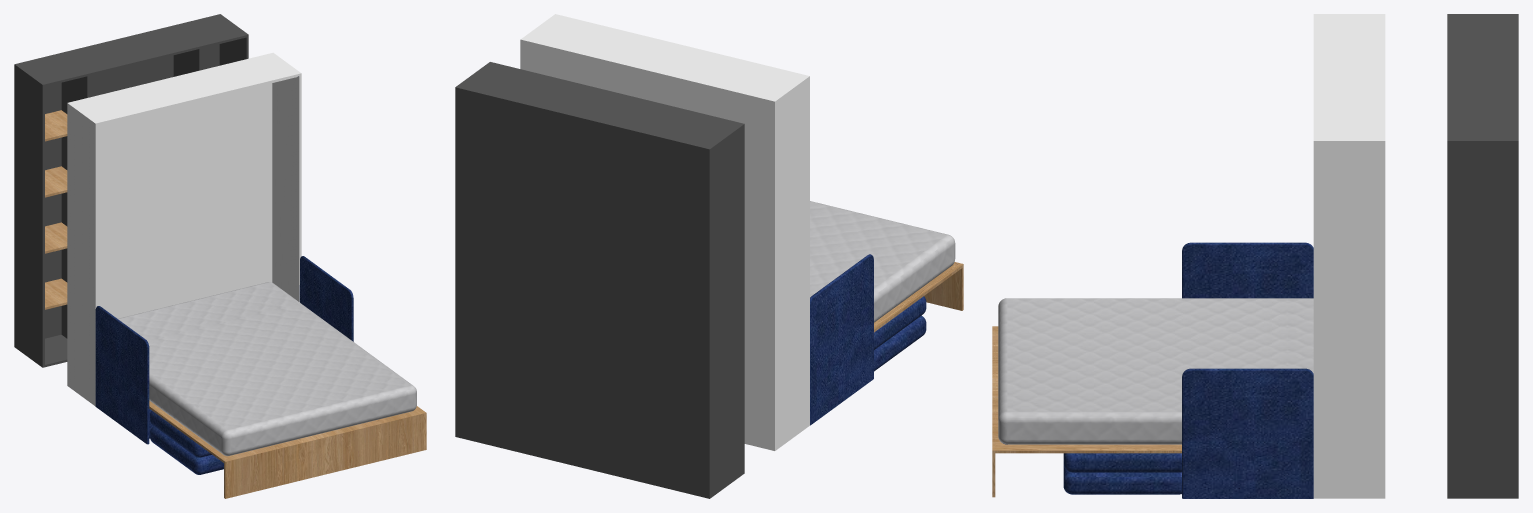
Rendered from kast_bedm.gltf.
3 renders of one model, left to right at view 1: azimuth 30°, elevation 25°; view 2: azimuth 150°, elevation 25°; view 3: azimuth 270°, elevation 25°, orthographic. The views are drawn at different scales.
Parts seen in each view (by area): view 1: kast_bedm; view 2: kast_bedm; view 3: kast_bedm.
Boxes of the visible parts, x1,y1,x2,y2 form: kast_bedm: (14, 14, 426, 498); kast_bedm: (455, 14, 963, 498); kast_bedm: (992, 14, 1518, 498).
Size of the model in its own units: 1690 by 2211 by 2950.
Materials: 6 (4 with a texture image).
